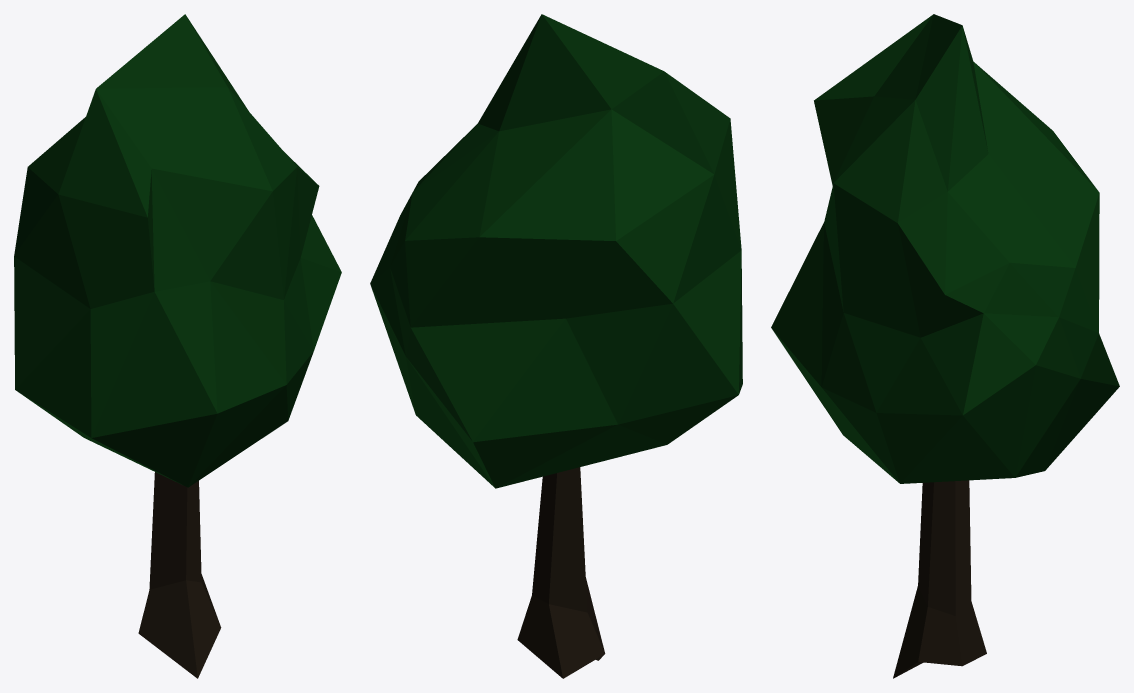
Rendered from Tree3.FBX.
3 views of the same model, side by side, from view 1: azimuth 30°, elevation 25°; view 2: azimuth 150°, elevation 25°; view 3: azimuth 270°, elevation 25° (orthographic). The views are drawn at different scales.
Visible parts, largest first — view 1: Tree3; view 2: Tree3; view 3: Tree3.
Part boxes in pixels (x1,y1,x2,y2): Tree3: (14, 14, 341, 678); Tree3: (370, 14, 742, 678); Tree3: (771, 14, 1119, 678).
Size of the model in its own units: 53.64 by 96.98 by 46.17.
